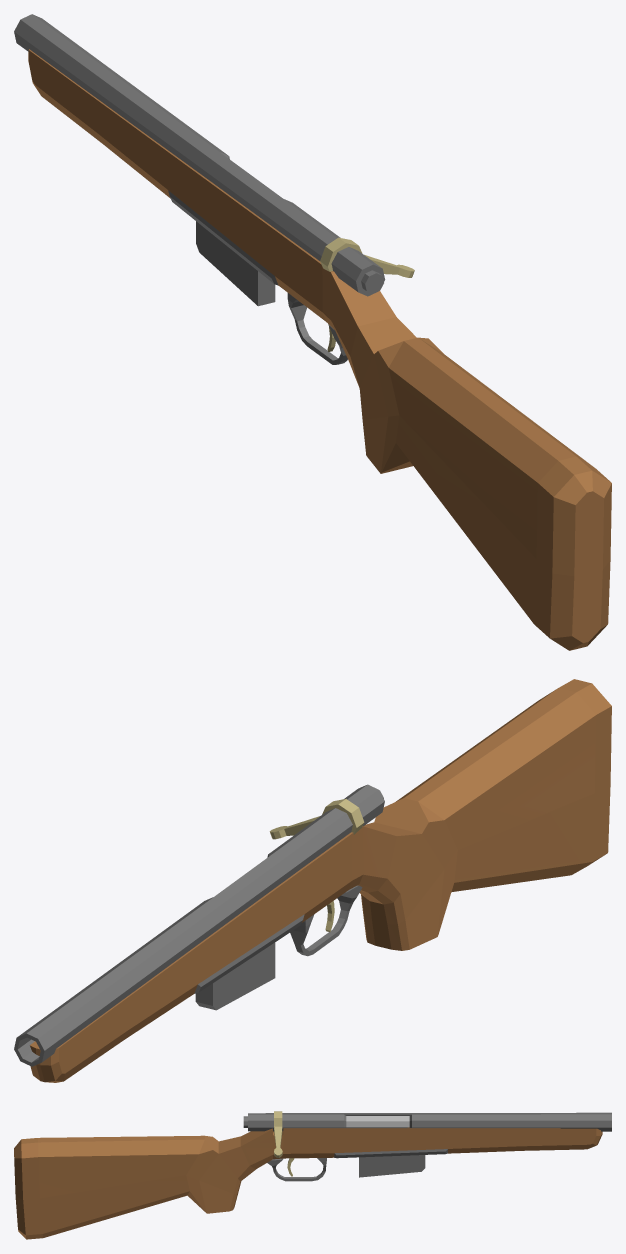
The model's file is BoltAction-Rifles-B-Short.fbx.
3 views of the same model, one above another, from view 1: azimuth 30°, elevation 25°; view 2: azimuth 150°, elevation 25°; view 3: azimuth 270°, elevation 25° (orthographic). The views are drawn at different scales.
Visible parts, largest first — view 1: SniperRifle_B; view 2: SniperRifle_B; view 3: SniperRifle_B.
Boxes of the visible parts, x1,y1,x2,y2 form: SniperRifle_B: (14,14,611,650); SniperRifle_B: (14,679,611,1082); SniperRifle_B: (14,1111,611,1239).
Size of the model in its own units: 112 by 251 by 1083.
